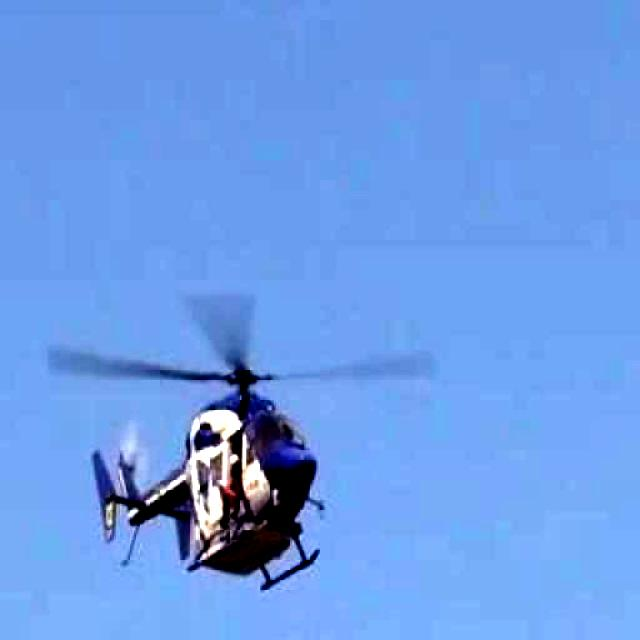drone: (29, 271, 445, 619)
